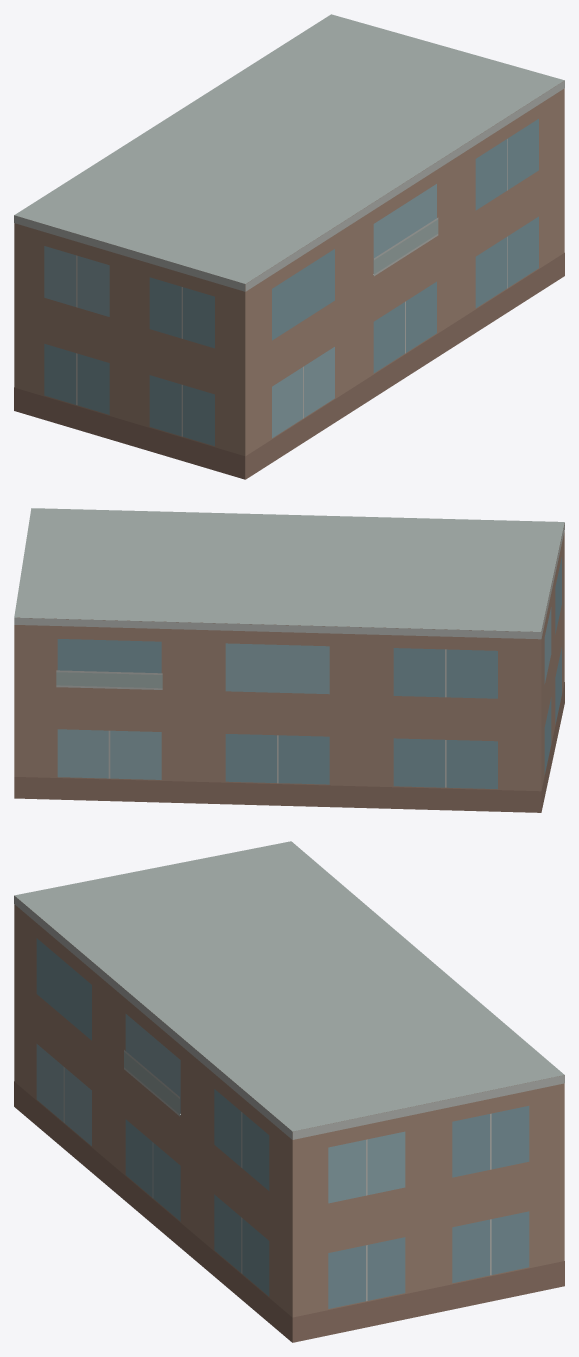
Rendered from survey-upis-32704792.glb.
The picture shows the model from 3 angles, top to bottom: view 1: azimuth 30°, elevation 25°; view 2: azimuth 150°, elevation 25°; view 3: azimuth 270°, elevation 25°; orthographic projection. The views are drawn at different scales.
Visible parts, largest first — view 1: survey-upis-32704792.tmp; view 2: survey-upis-32704792.tmp; view 3: survey-upis-32704792.tmp.
Part boxes in pixels (x1,y1,x2,y2): survey-upis-32704792.tmp: (14,14,564,479); survey-upis-32704792.tmp: (14,508,564,812); survey-upis-32704792.tmp: (14,841,564,1342).
Bounding box in the file's own units: 18 × 6.1 × 14.42.
